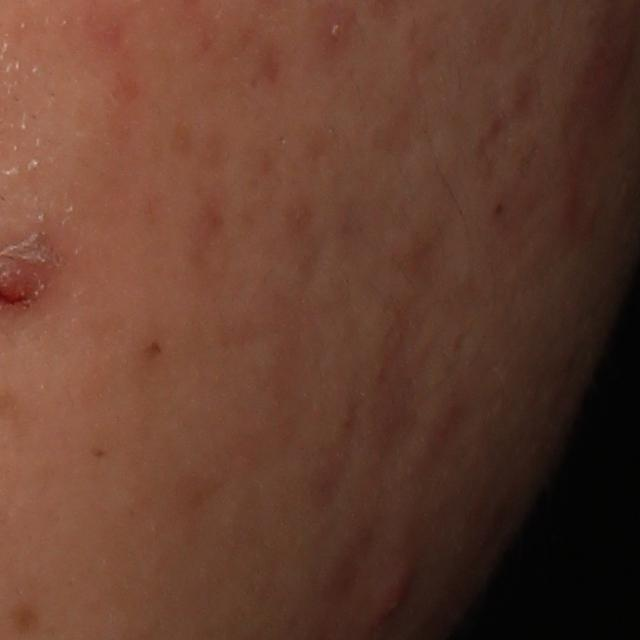papule: (360, 549, 424, 628)
